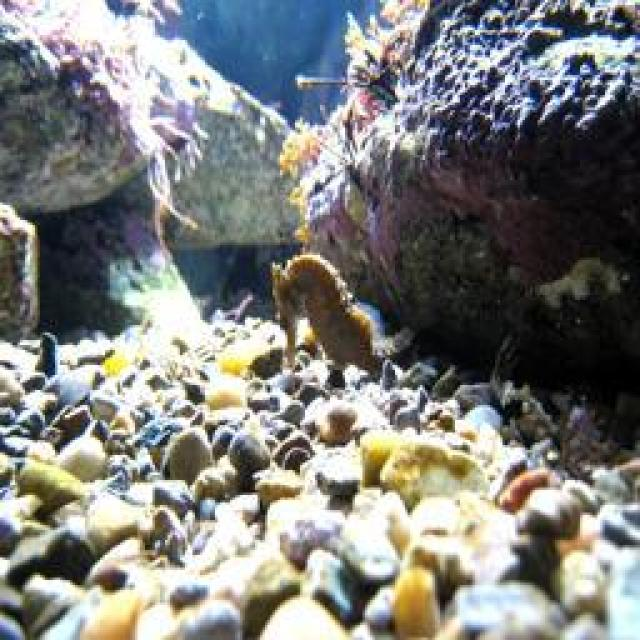fish: (270, 252, 416, 379)
reefs: (395, 40, 638, 200), (281, 105, 352, 179)
